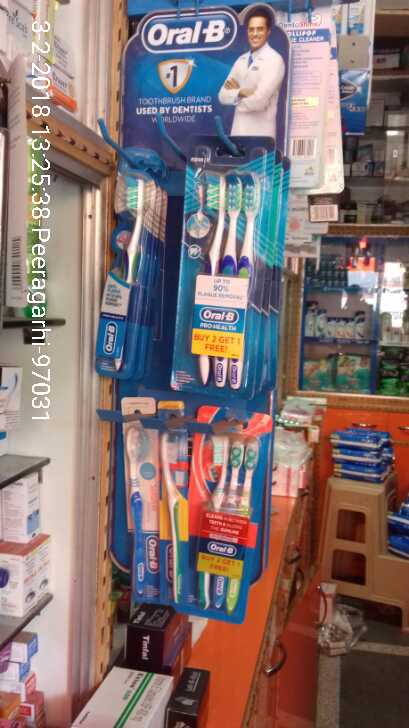oralb: (173, 138, 275, 393), (184, 406, 266, 620), (94, 145, 161, 382), (119, 395, 160, 610), (156, 399, 189, 610)
